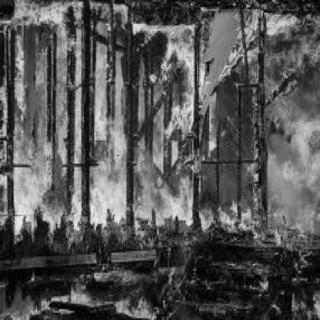Fire: (0, 0, 317, 314)
